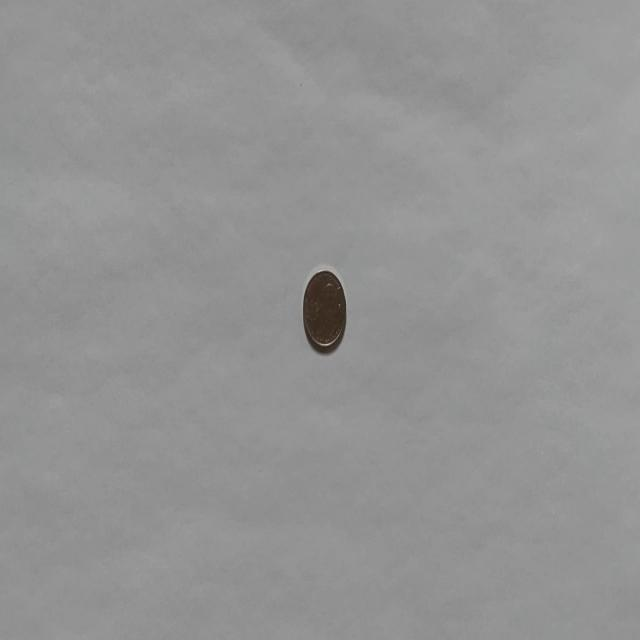seribu rupiah koin: (301, 266, 347, 353)
